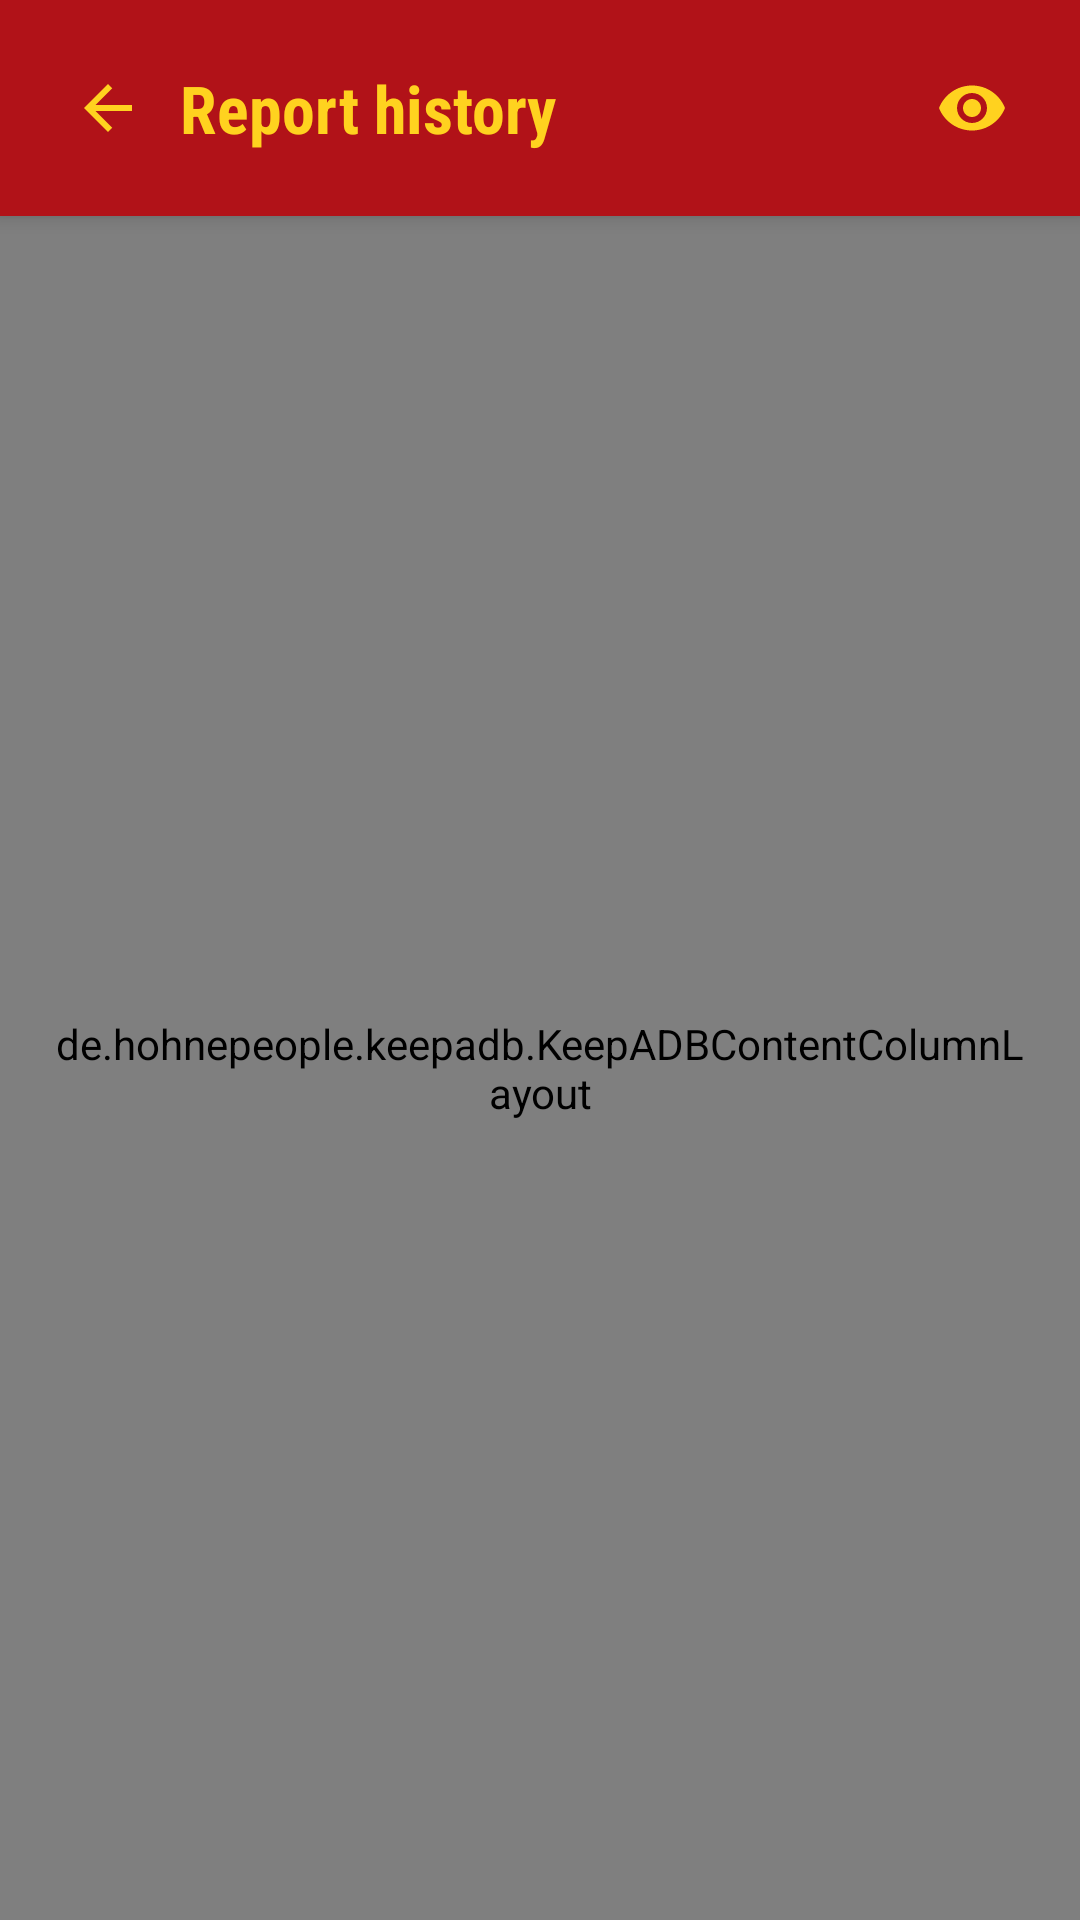

Icons on this 1080x1920 Android screen, each with the point to tap as (x=x, y=y):
Back: (x=108, y=108)
Details are shown on this screen: (x=972, y=108)
